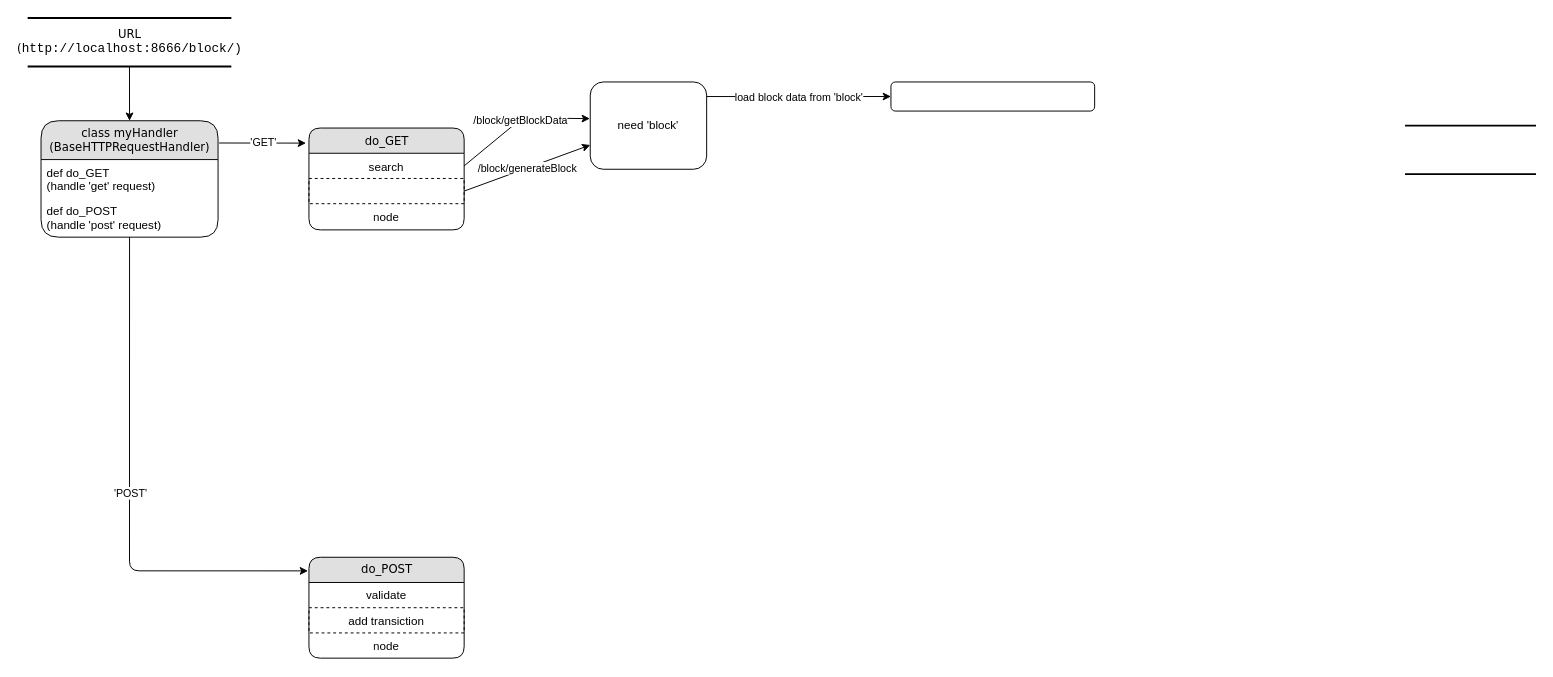
Some shapes in this 1553 by 677 pixel diagram are drawn without their labels. The shapes that lost their labels are listed below. From the top down, each one's box as (x1, y1, x2, y2) in pixels, then its label:
(890, 81, 1095, 111): return data.append(block.__dict__)
(1404, 124, 1536, 175): Object
(308, 178, 464, 204): generate block
